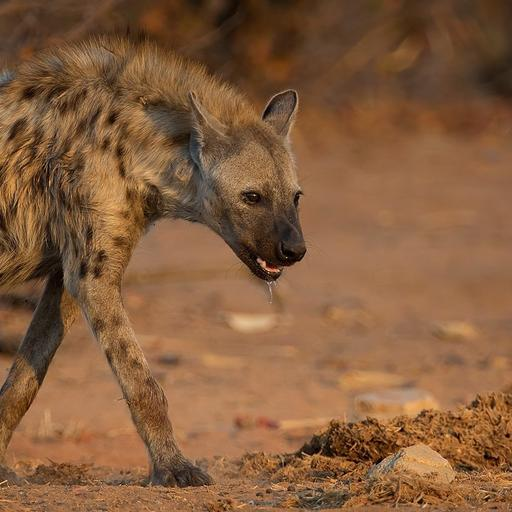Hyena: (0, 31, 313, 493)
